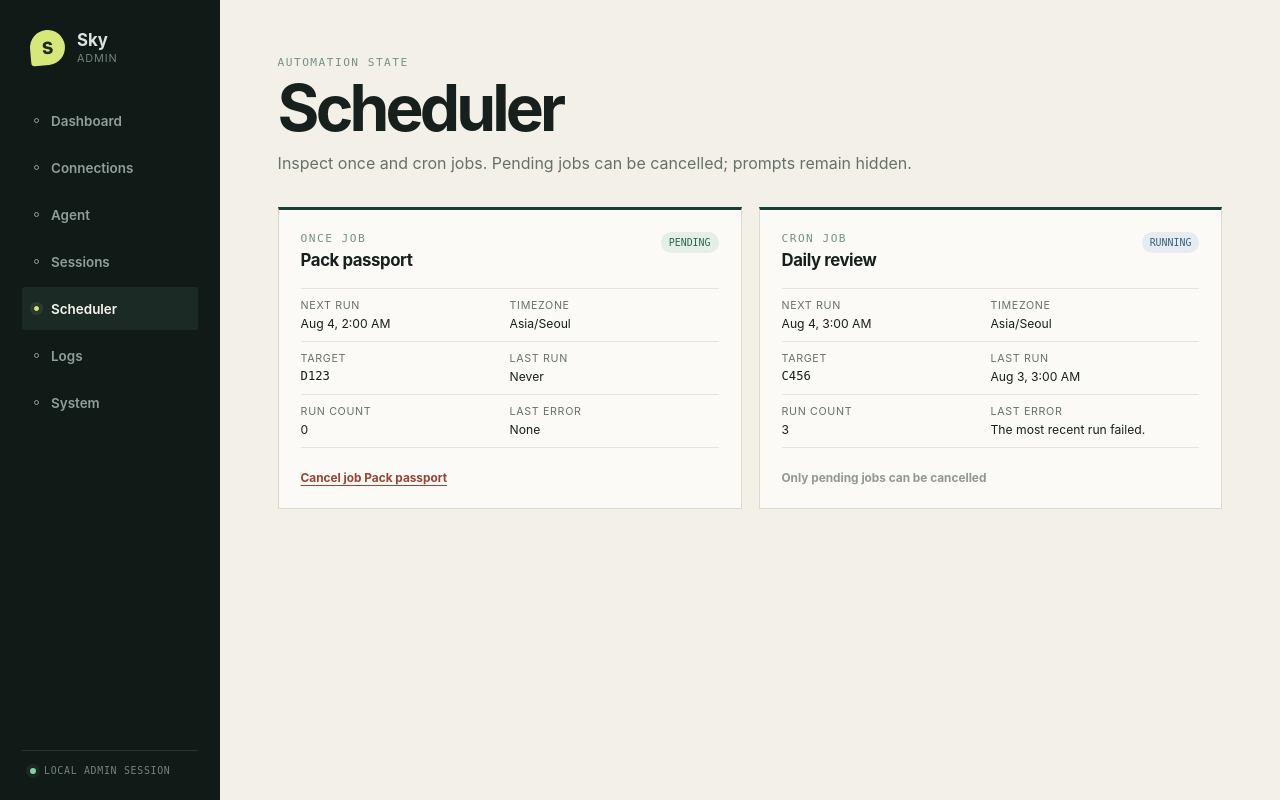
Test: lists scheduler state and only cancels a confirmed pending job
This screenshot has width=1280, height=800.
Expected: the heading "Pack passport" is shown, x1=301 y1=250 x2=413 y2=270
Expected: the heading "Daily review" is shown, x1=782 y1=250 x2=876 y2=270
Click the button "Cancel job Pack passport" at coordinates (374, 478), box x1=301 y1=471 x2=447 y2=485
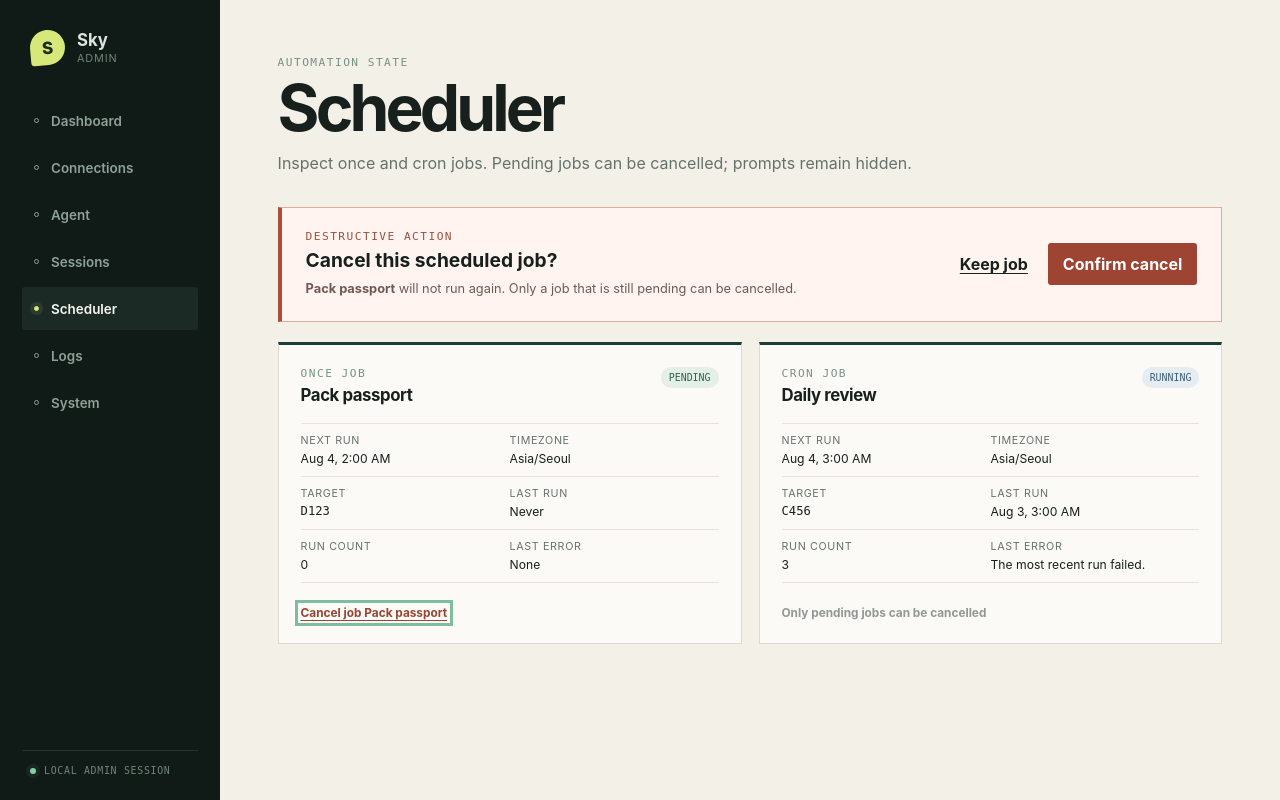
Now the dialog shows "Only a job that is still pending", box x1=395 y1=281 x2=797 y2=296
Click the button "Confirm cancel" at coordinates (1123, 264), box x1=1048 y1=243 x2=1197 y2=285
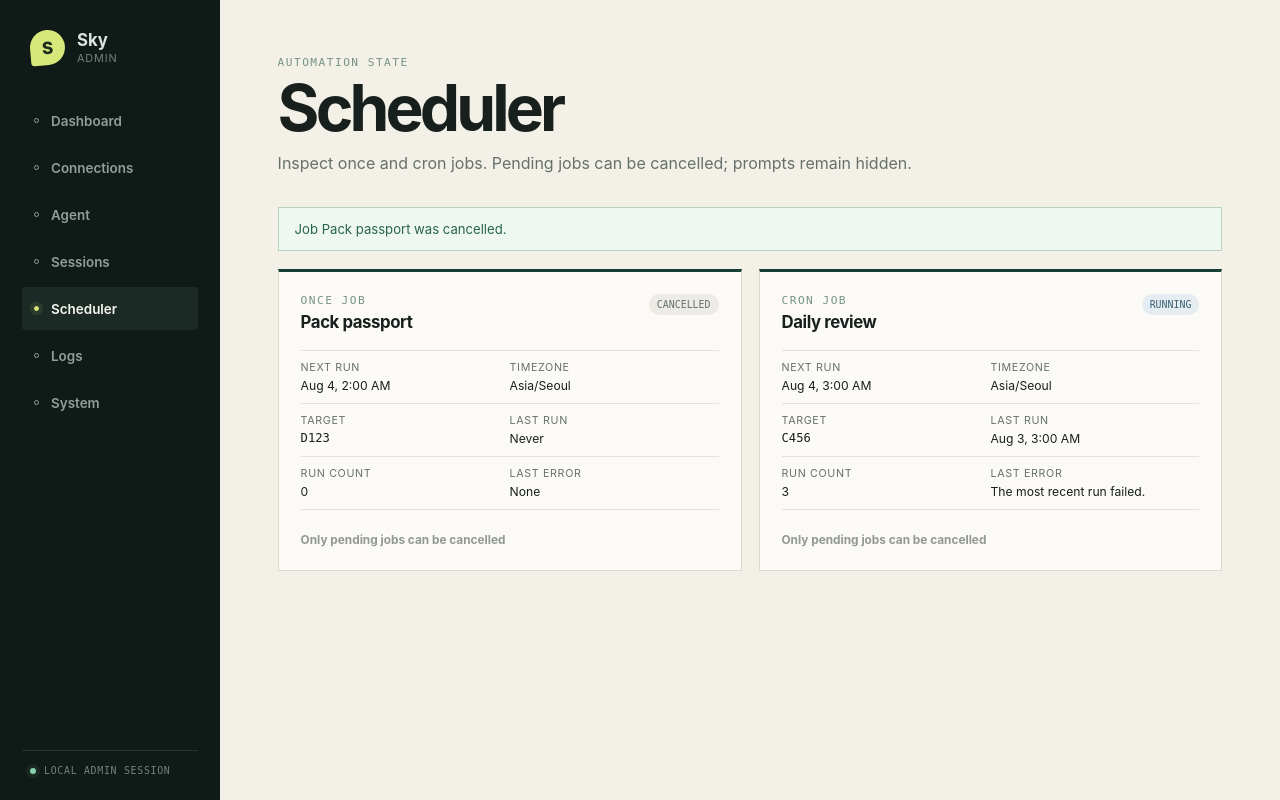
Expected: the number of buttons "Only pending jobs can be cancelled" is 2, x1=301 y1=533 x2=506 y2=547; x1=782 y1=533 x2=986 y2=547
Now the message shows "was cancelled", box x1=295 y1=221 x2=506 y2=237
